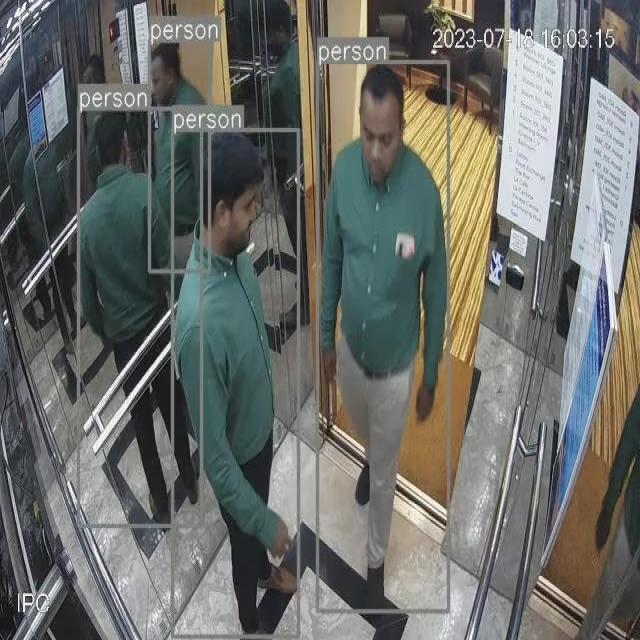person: (317, 64, 449, 612), (174, 129, 300, 636), (77, 111, 201, 521), (149, 44, 208, 271)
